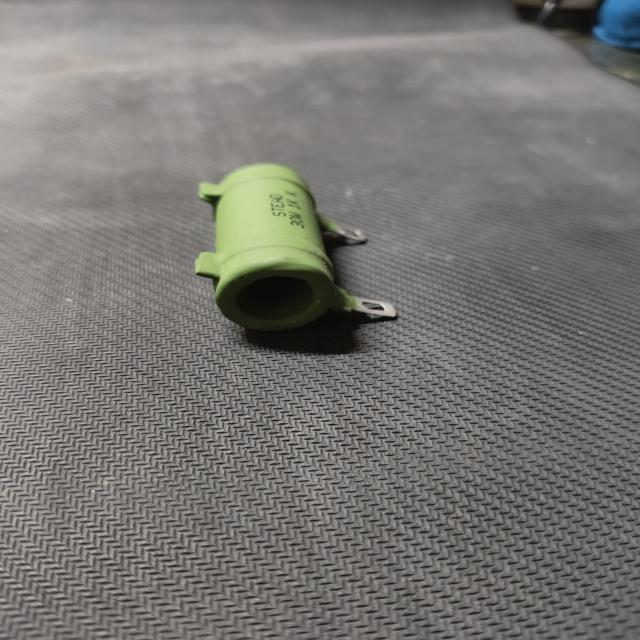resistor: (188, 158, 409, 340)
